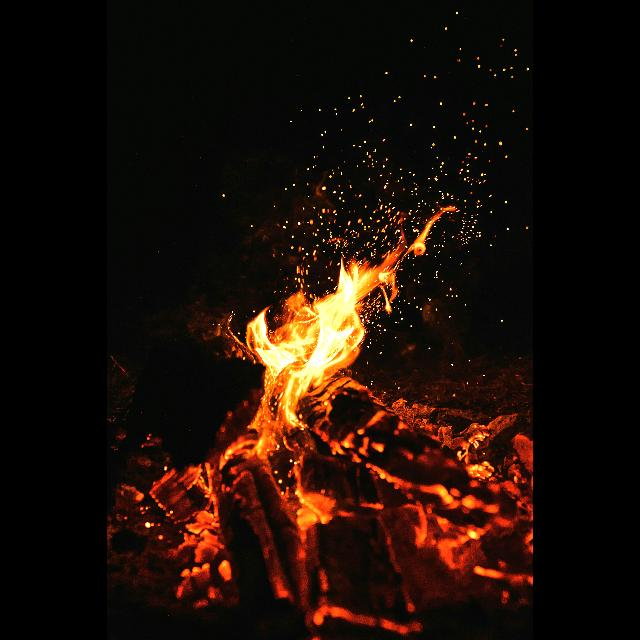fire: (107, 235, 533, 640)
